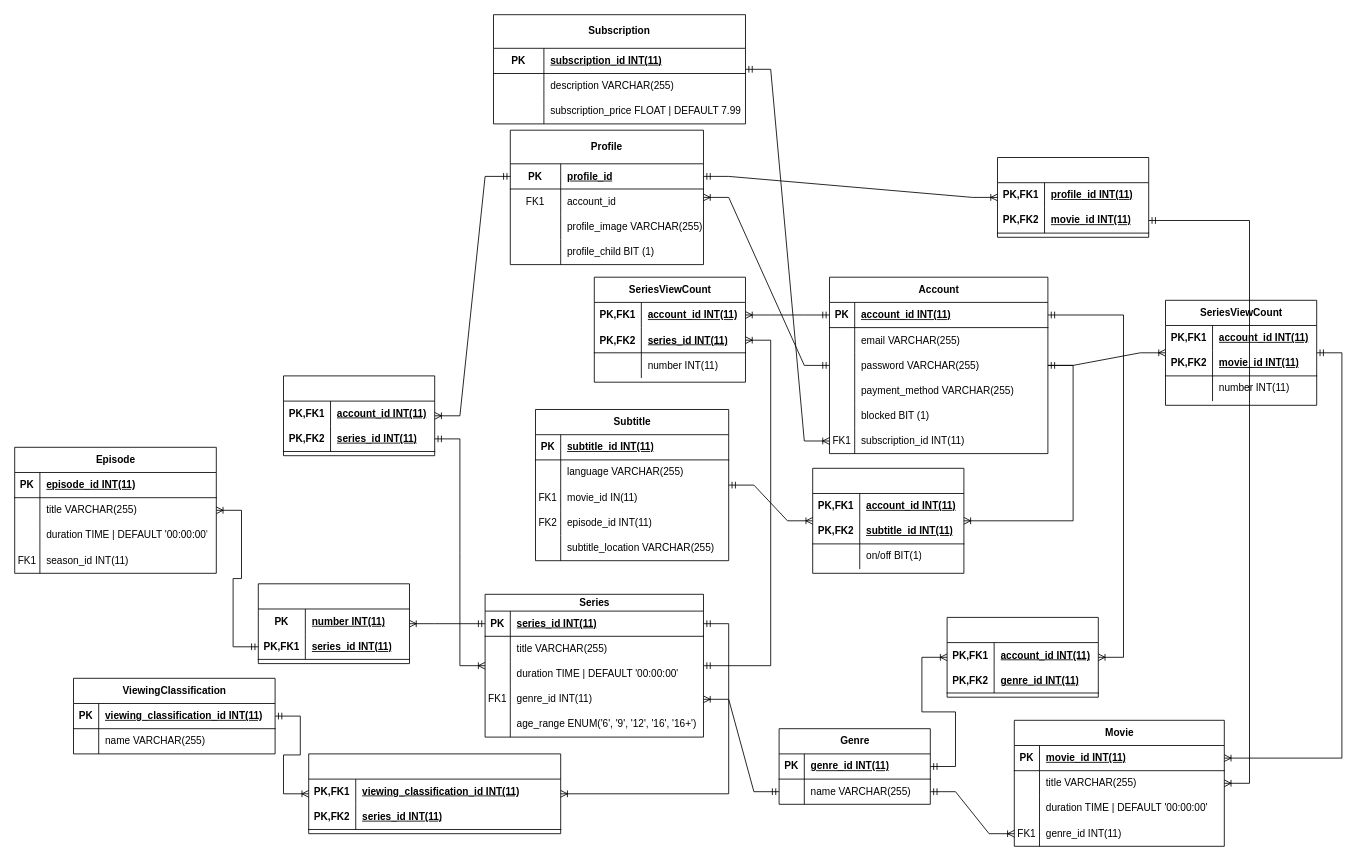
Some shapes in this 1364 by 861 pixel diagram are drawn without their labels. Here are the shapes that lost their labels. From the top down, the box of each, then its label:
(997, 157, 1149, 237): MoviesProfileWattchlist
(283, 375, 435, 456): SeriesProfileWatchlist
(812, 467, 964, 573): Subtitle/account
(257, 583, 410, 664): Season
(946, 617, 1098, 697): Genre/account
(308, 753, 561, 834): ViewingClassification/series
